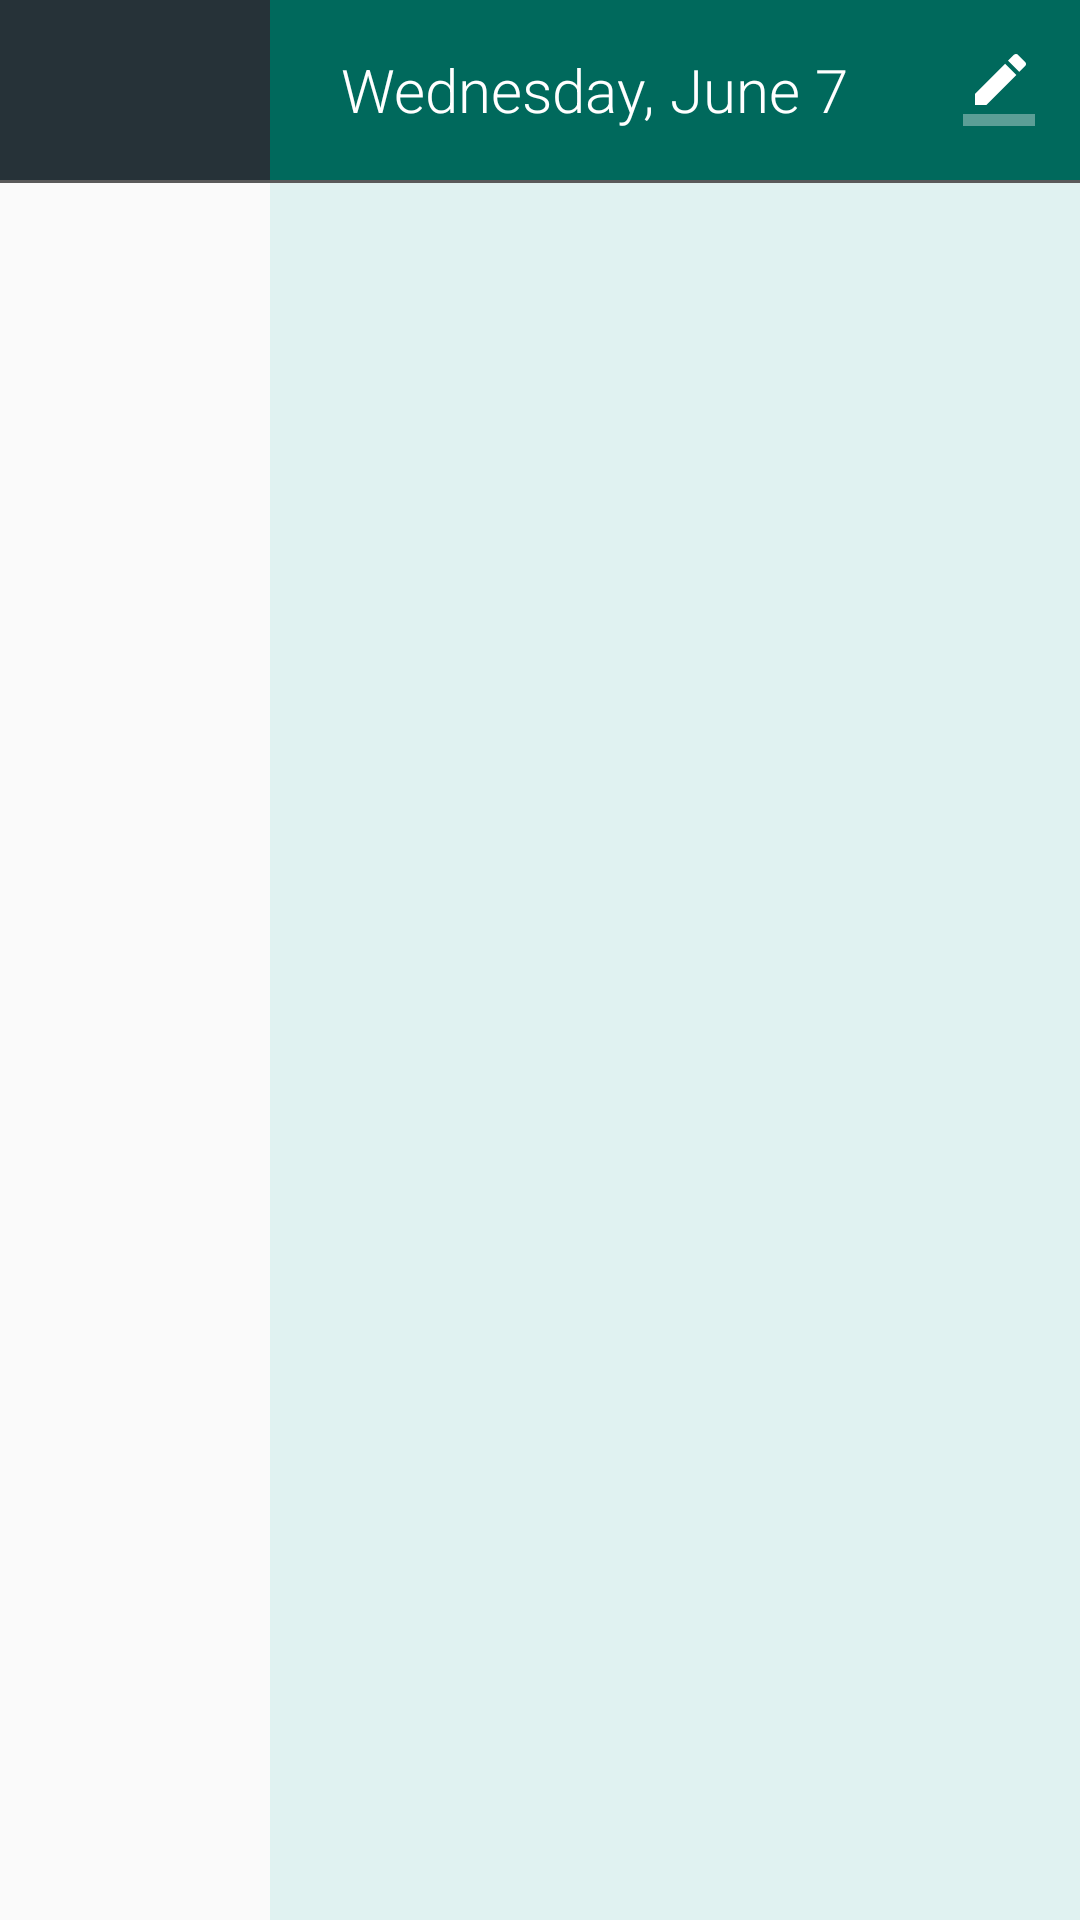

Named icons in this screenshot (1080×1920) and their bounding boxes, {"x1": x1, "y1": y1, "x2": x2, "y2": y2}:
schedule edit: {"x1": 963, "y1": 54, "x2": 1035, "y2": 126}
